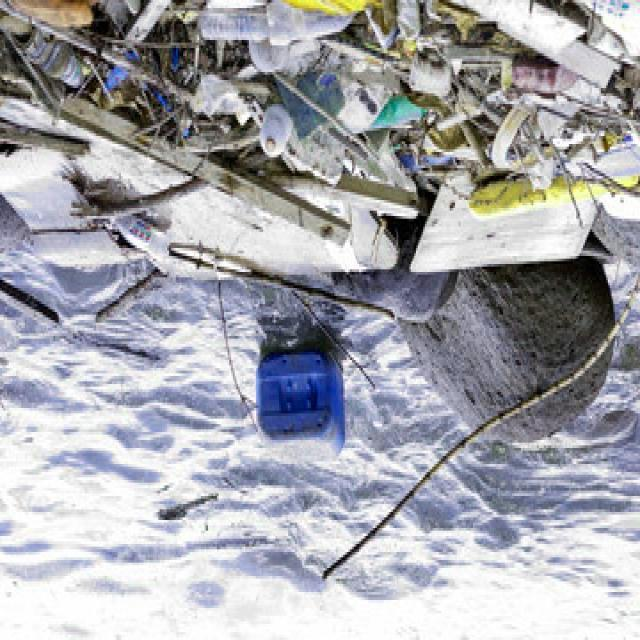Plastic: (248, 350, 352, 469), (108, 208, 174, 269), (261, 3, 350, 43), (195, 9, 272, 48), (256, 104, 298, 164), (506, 63, 576, 95), (401, 60, 451, 104), (388, 0, 434, 44)
Trash: (189, 70, 255, 125)
